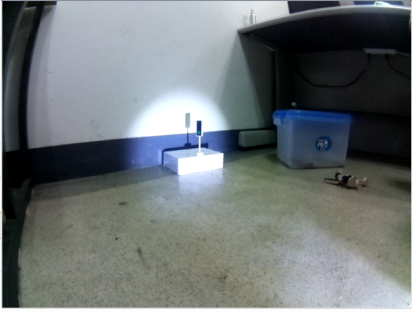Green: (195, 119, 204, 140)
